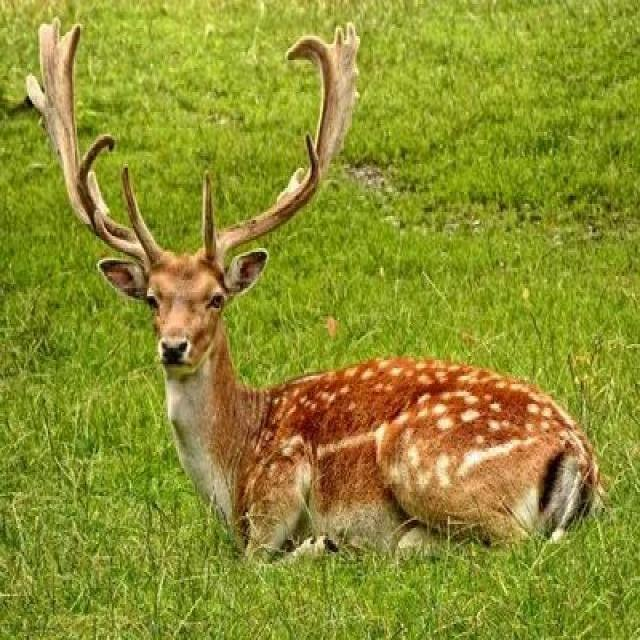deer: (104, 128, 548, 567)
